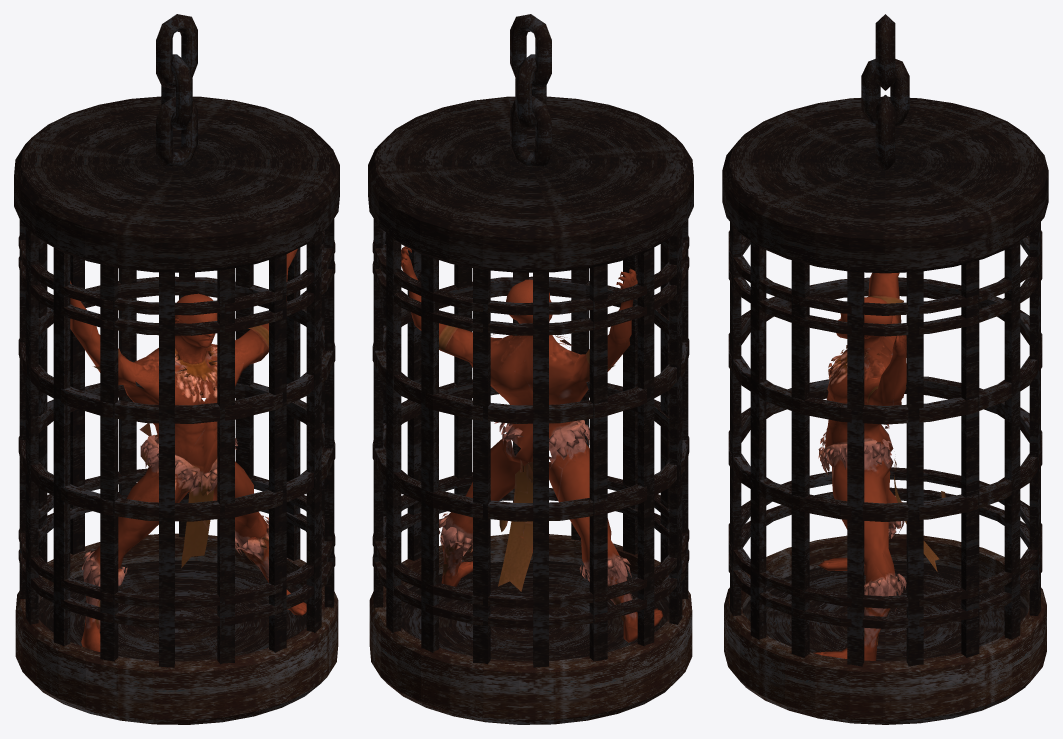
The model's file is mm7_deco_7dec07.glb.
3 views of the same model, side by side, from view 1: azimuth 30°, elevation 25°; view 2: azimuth 150°, elevation 25°; view 3: azimuth 270°, elevation 25° (orthographic).
Visible parts, largest first — view 1: Cage; view 2: Cage; view 3: Cage.
Boxes of the visible parts, x1,y1,x2,y2 form: Cage: (14,14,339,724); Cage: (368,14,693,724); Cage: (722,14,1048,724).
Bounding box in the file's own units: 1.15 × 2.51 × 1.15.
Materials: 2 (2 with a texture image).
